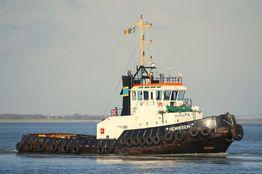otherboat: (12, 11, 245, 155)
